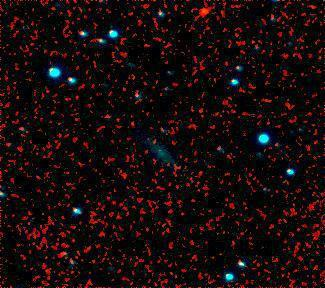star: (189, 0, 219, 25)
